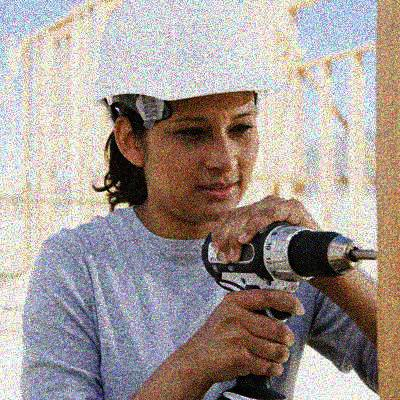helmet: (95, 1, 286, 214)
